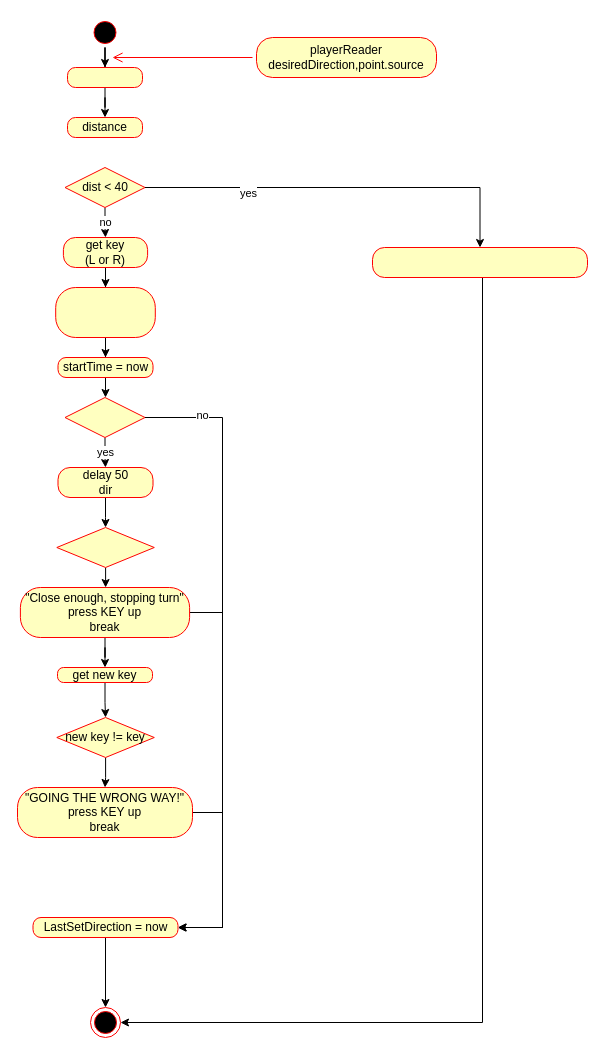
Image size: 605x1055. Some labels were removed from this diagram. Here are the shapes that lost their labels. From the top down, the centre of each, then its label:
point 104,77: location
point 480,262: "Too close, ignoring direction change." return
point 105,312: "start rotating" press KEY down startTime = now
point 104,417: startTime past <10s
point 105,547: dir - desiredDir < 0.01
